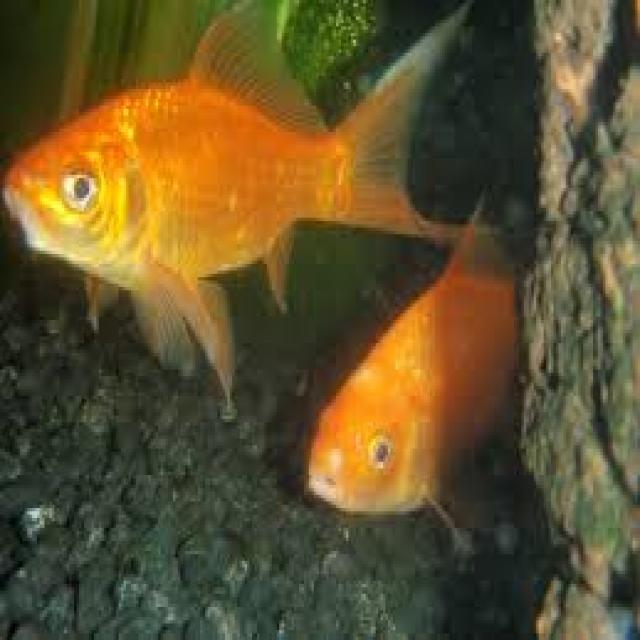goldfish: (14, 18, 458, 318), (300, 204, 562, 534)
